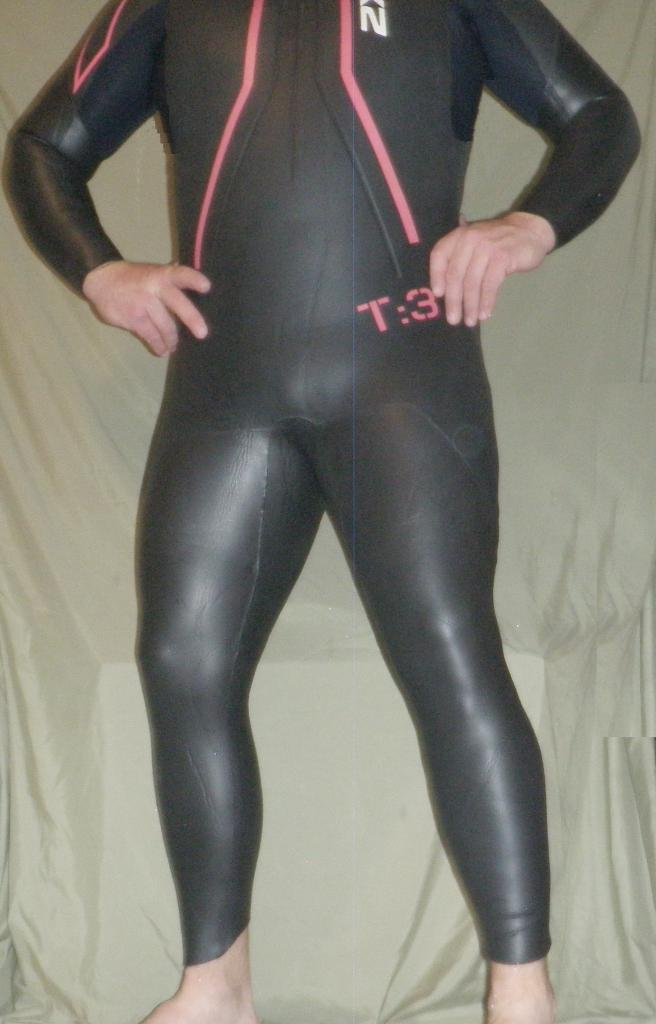Person: (1, 0, 639, 1022)
